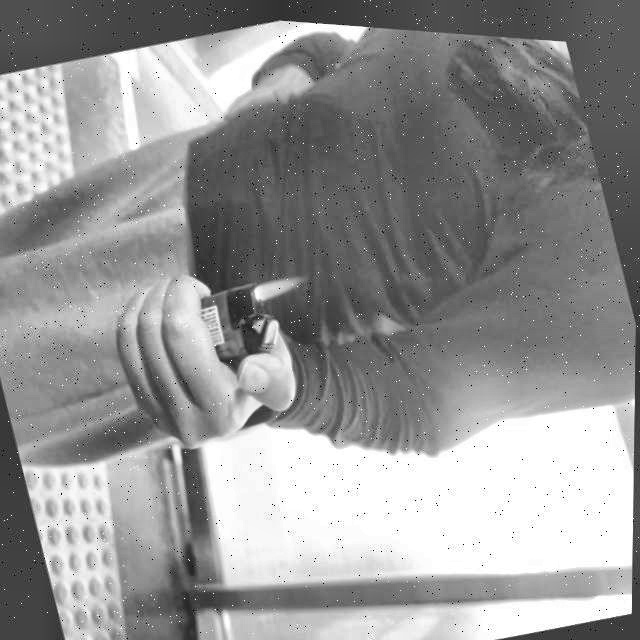Fire: (254, 267, 300, 304)
